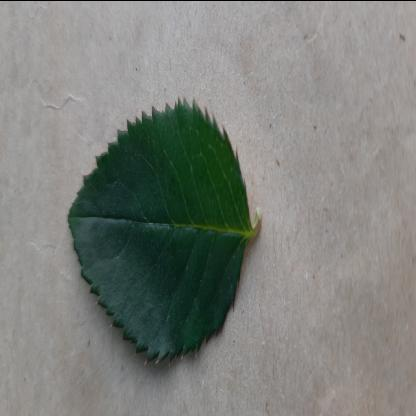normal: (67, 96, 254, 366)
